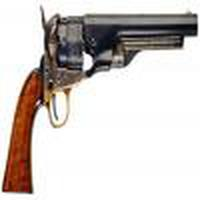gun: (2, 12, 200, 193)
